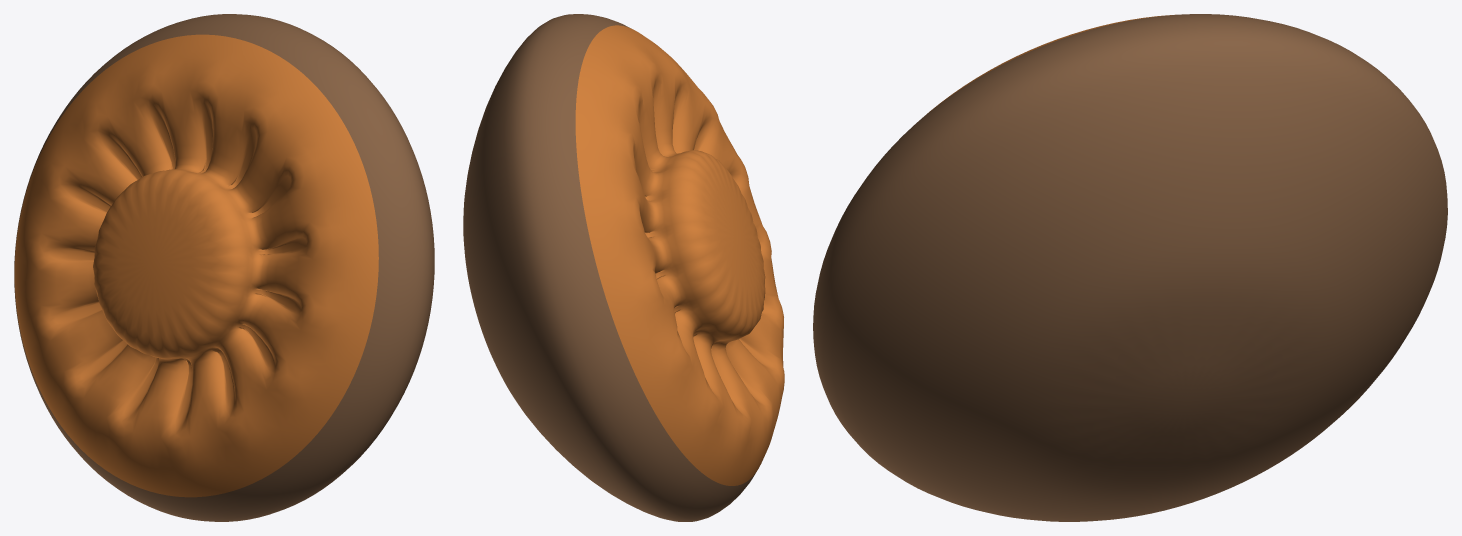
Rendered from mushroom(Thick）.fbx.
3 renders of one model, left to right at view 1: azimuth 30°, elevation 25°; view 2: azimuth 150°, elevation 25°; view 3: azimuth 270°, elevation 25°, orthographic. The views are drawn at different scales.
Parts seen in each view (by area): view 1: Cylinder; view 2: Cylinder; view 3: Cylinder.
Part boxes in pixels (bbox=[...]): Cylinder: bbox=[14, 14, 434, 521]; Cylinder: bbox=[463, 14, 784, 521]; Cylinder: bbox=[813, 14, 1447, 521].
Bounding box in the file's own units: 128 × 188 × 193.
